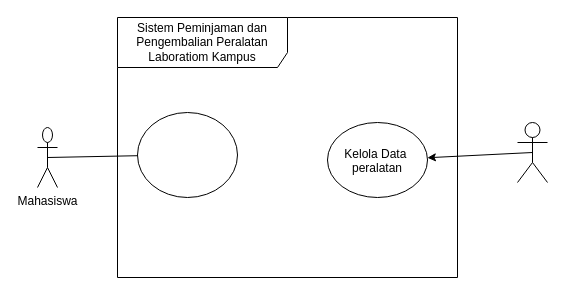
Some shapes in this 571 by 295 pixel diagram are drawn without their labels. Each missing label, with the centre of its shape:
"Lihat ketersediaan Peralatan" goes at [187,155].
"Petugas" goes at [532,152].
